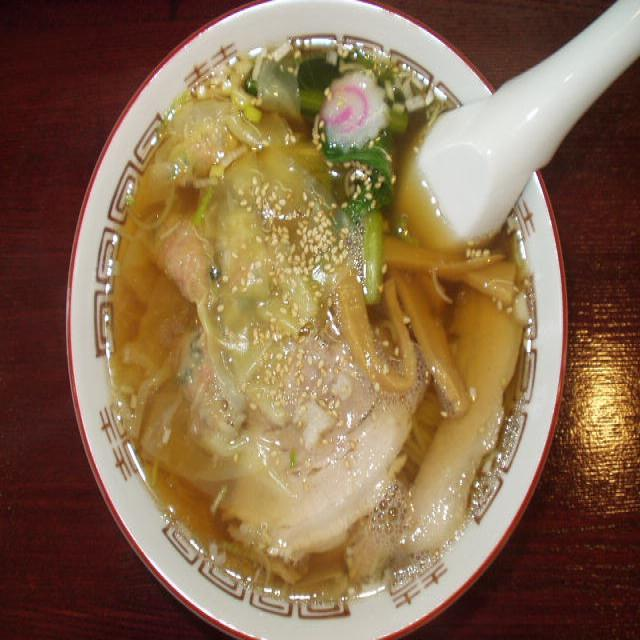面条主食: (66, 0, 568, 640)
